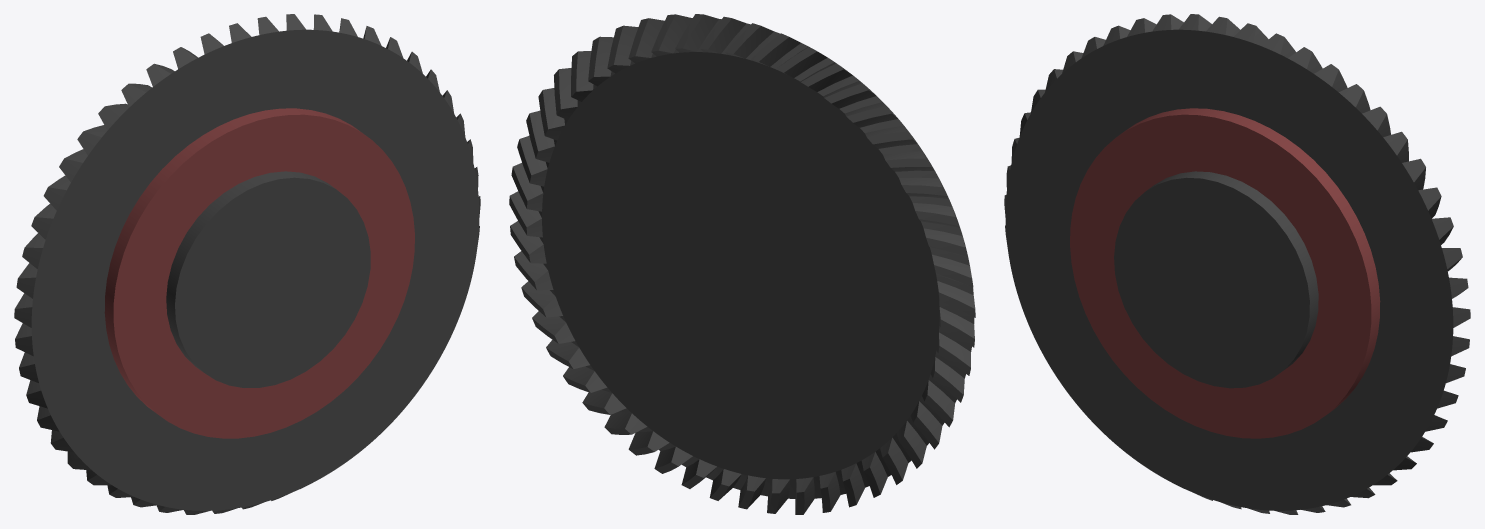
File: link7CGSimple.dae
3 renders of one model, left to right at view 1: azimuth 30°, elevation 25°; view 2: azimuth 150°, elevation 25°; view 3: azimuth 330°, elevation 25°, orthographic.
Parts seen in each view (by area): view 1: ID9, ID6; view 2: ID9; view 3: ID9, ID6.
Part boxes in pixels (bbox=[...]): ID9: bbox=[14, 14, 480, 514]; ID6: bbox=[104, 108, 414, 438]; ID9: bbox=[509, 14, 975, 514]; ID9: bbox=[1004, 14, 1470, 514]; ID6: bbox=[1070, 108, 1380, 438].
Size of the model in its own units: 0.0927 by 0.0118 by 0.0927.
